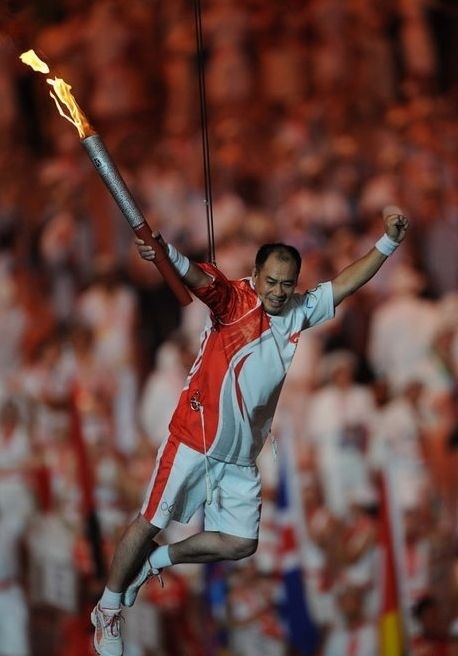fire: (14, 43, 92, 135)
